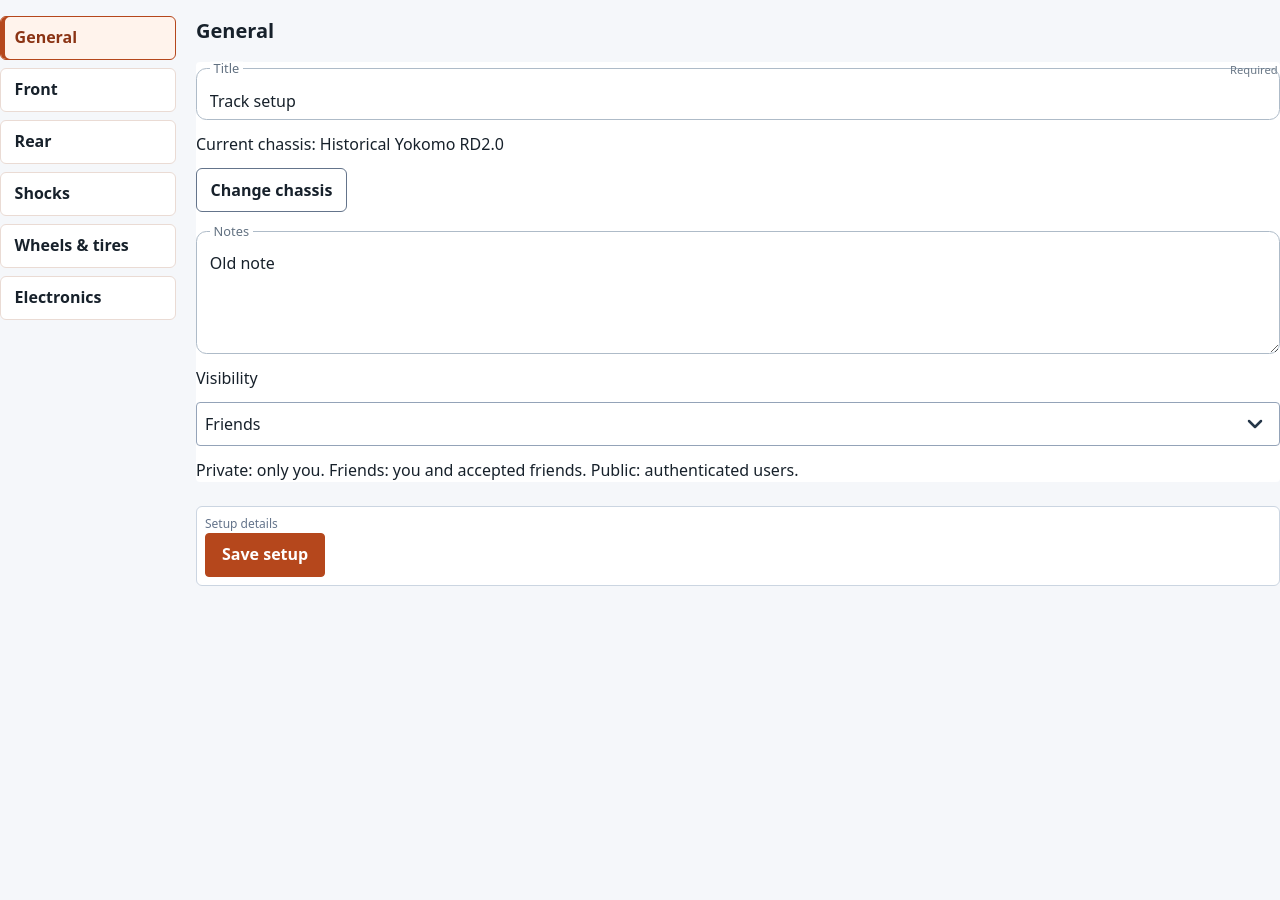
Test: aggregate link errors reveal the stable field array and focus an actionable associated destination
Click the button "Save setup" at (265, 555), box [205,533,325,577]
(page scrolled)
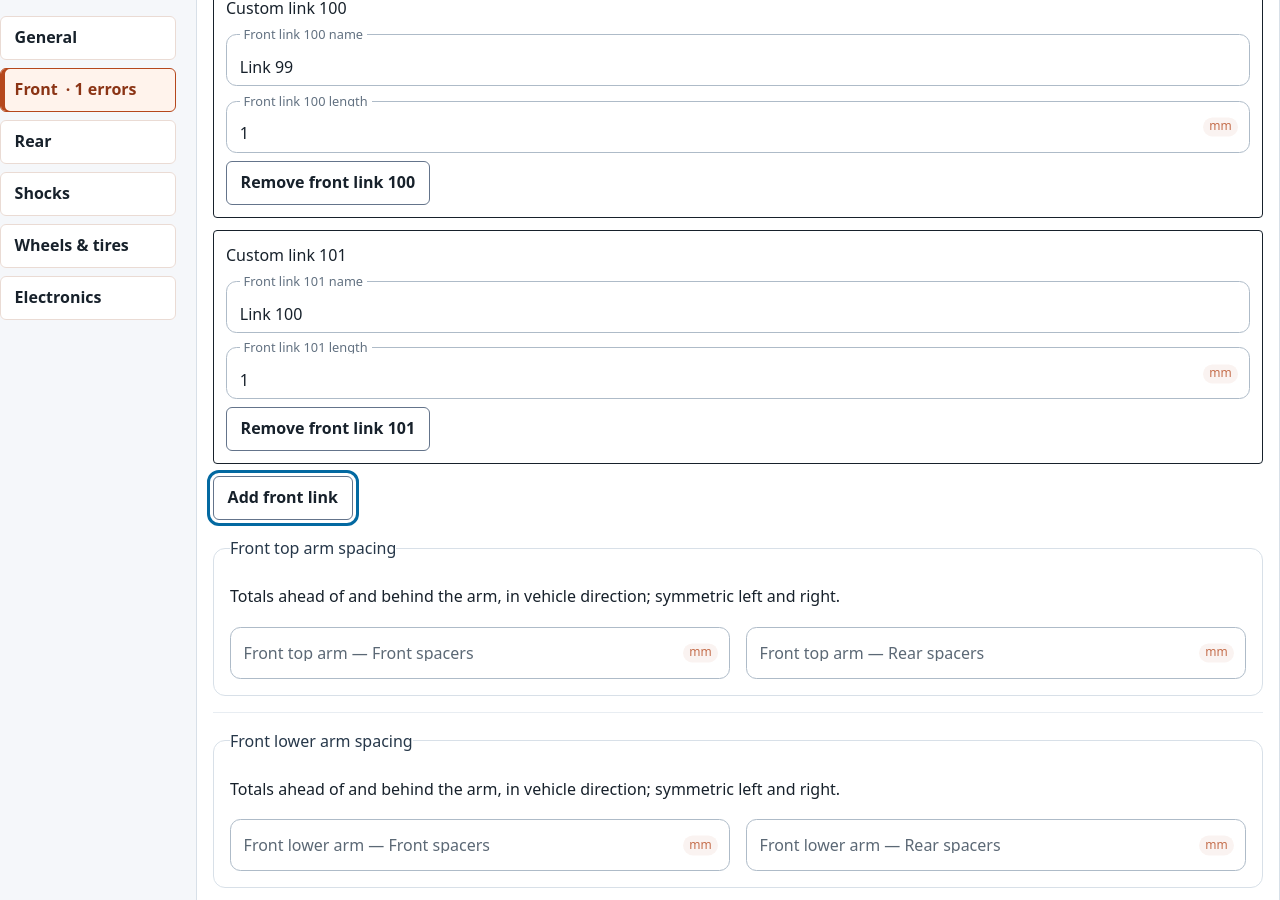
Check: the field labelled "Front link 101 name" holds "Link 100", box [226,281,1250,333]
